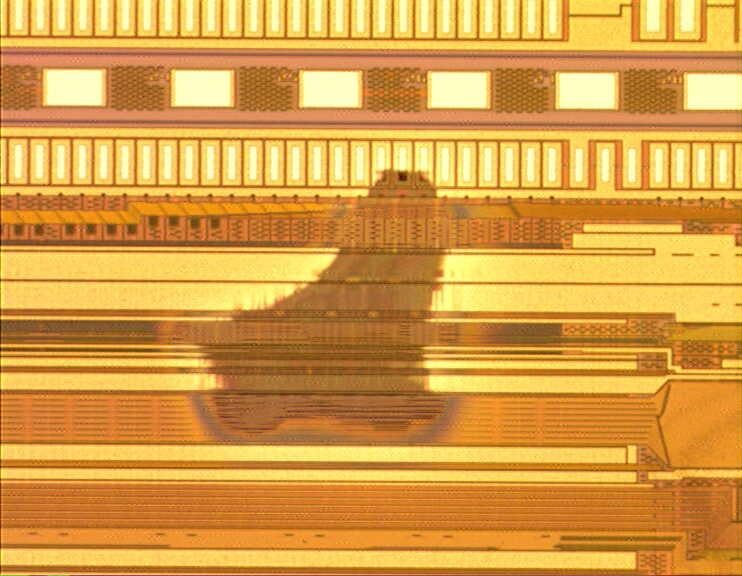BLOCK ETCH: (177, 159, 472, 452)
